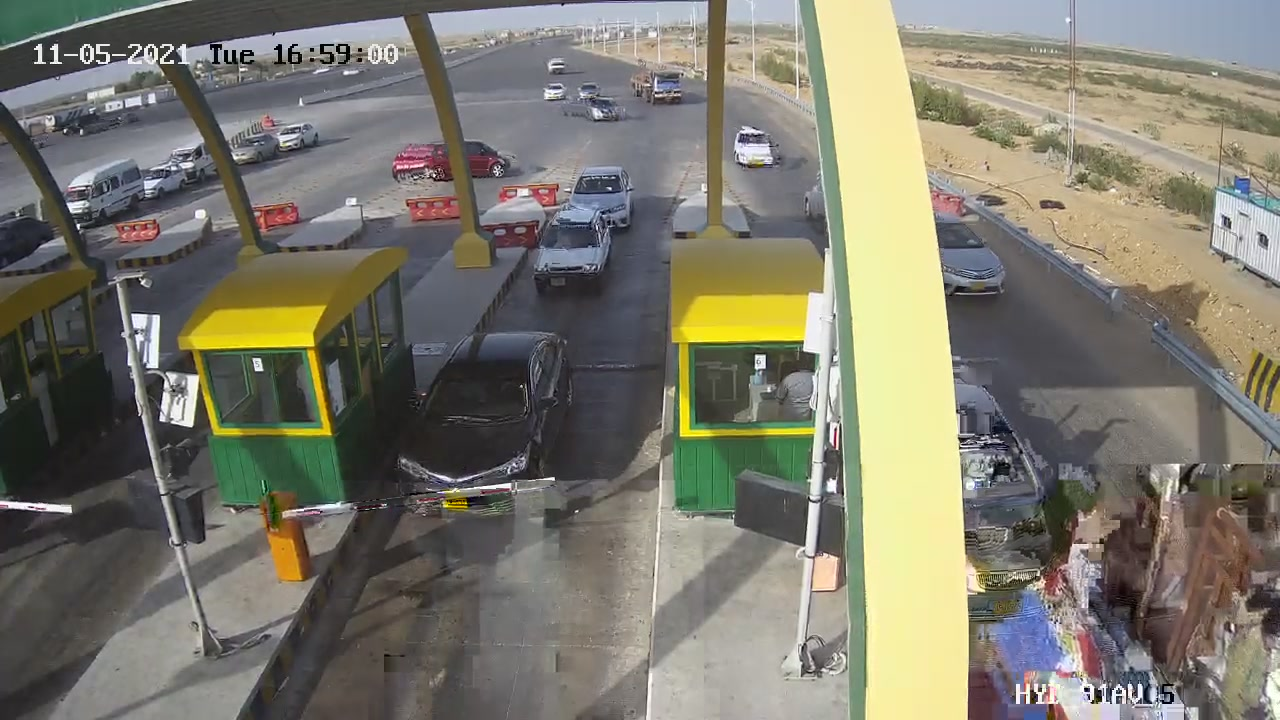F1: (385, 316, 592, 536), (514, 198, 628, 308)
